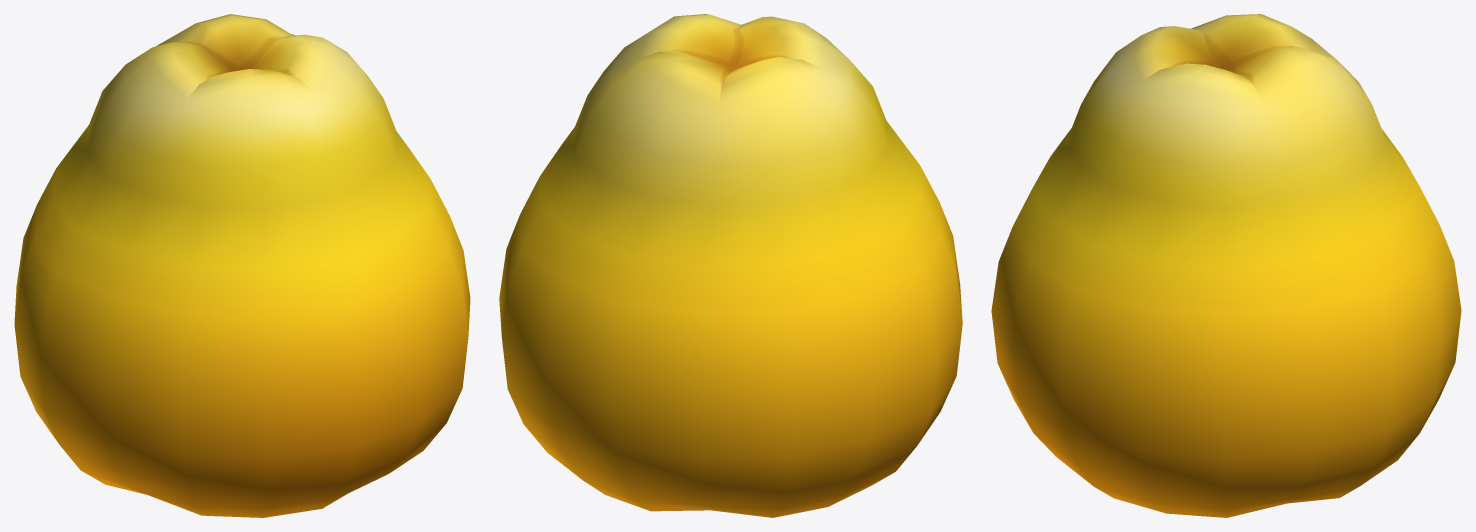
File: Quince_Ripe.fbx
3 views of the same model, side by side, from view 1: azimuth 30°, elevation 25°; view 2: azimuth 150°, elevation 25°; view 3: azimuth 270°, elevation 25° (orthographic).
Parts seen in each view (by area): view 1: Quince_Ripe; view 2: Quince_Ripe; view 3: Quince_Ripe.
Boxes of the visible parts, left/top/right/bottom form: Quince_Ripe: left=14, top=14, right=470, bottom=517; Quince_Ripe: left=499, top=14, right=962, bottom=517; Quince_Ripe: left=991, top=14, right=1461, bottom=517.
Size of the model in its own units: 36.74 by 36.17 by 36.74.
